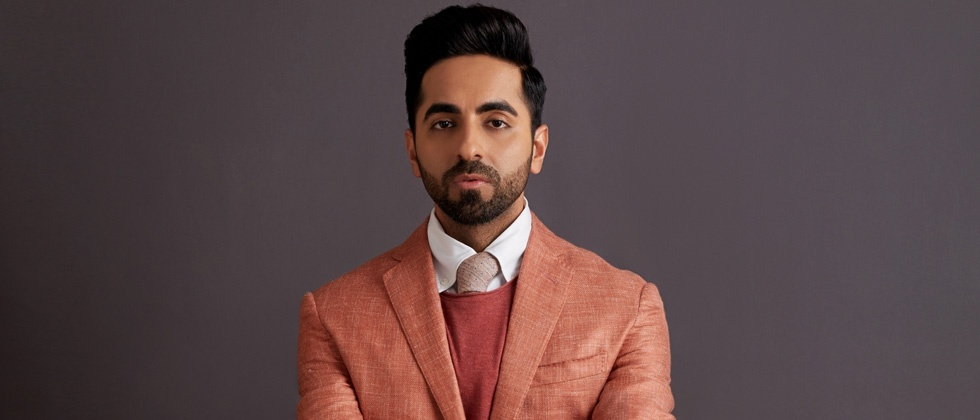bad: (390, 81, 545, 236)
